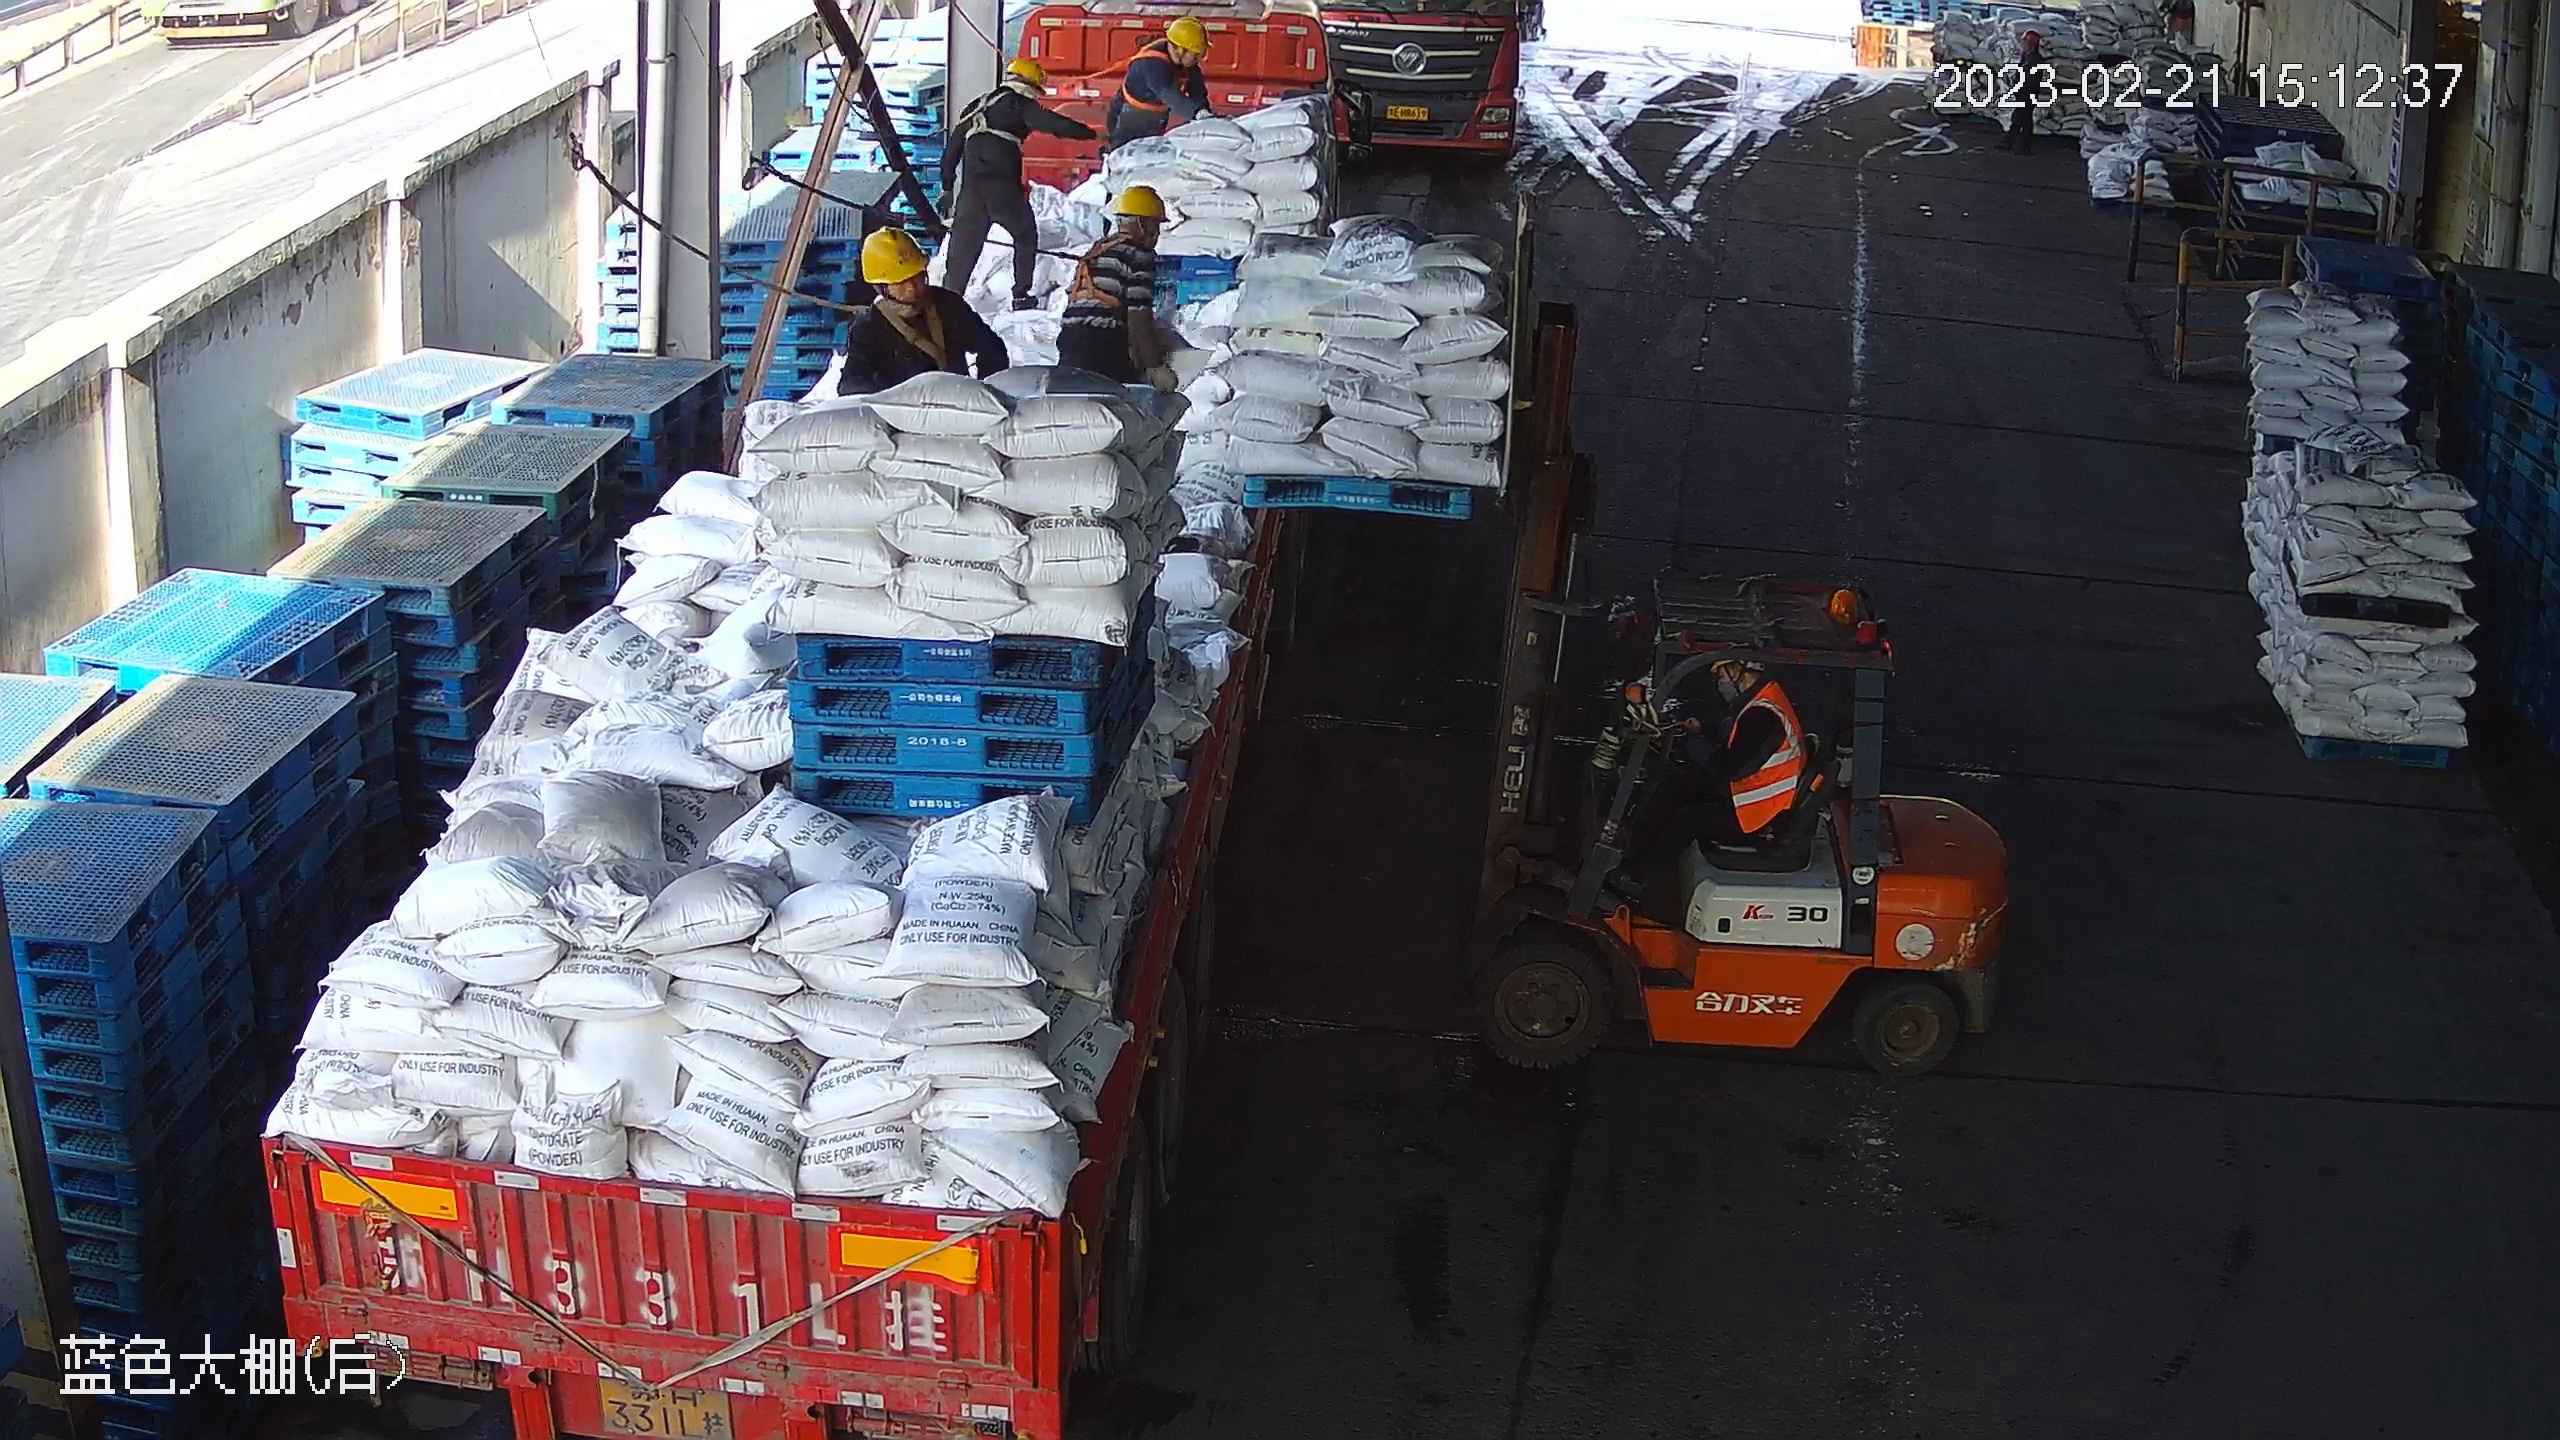belt: (846, 296, 948, 373), (1055, 235, 1126, 307), (1114, 39, 1172, 113), (955, 88, 1023, 148)
head: (845, 226, 965, 349), (1083, 186, 1172, 271), (961, 57, 1046, 127), (1131, 15, 1208, 81)
helmet: (861, 225, 930, 284), (1111, 185, 1172, 223), (1165, 15, 1208, 54), (1005, 57, 1048, 84)
people: (1607, 661, 1808, 897), (933, 57, 1099, 311), (1054, 186, 1181, 392), (1107, 14, 1208, 146)
truck: (258, 1, 1374, 1440), (1317, 1, 1521, 151)
